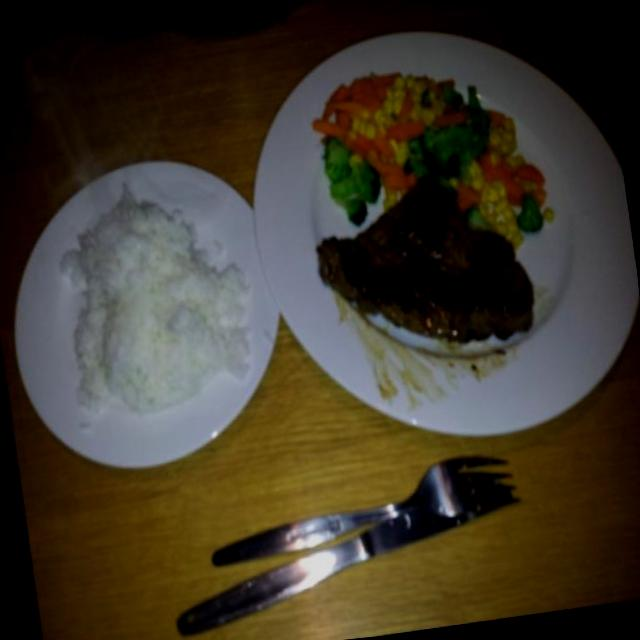Rice: (36, 172, 266, 420)
